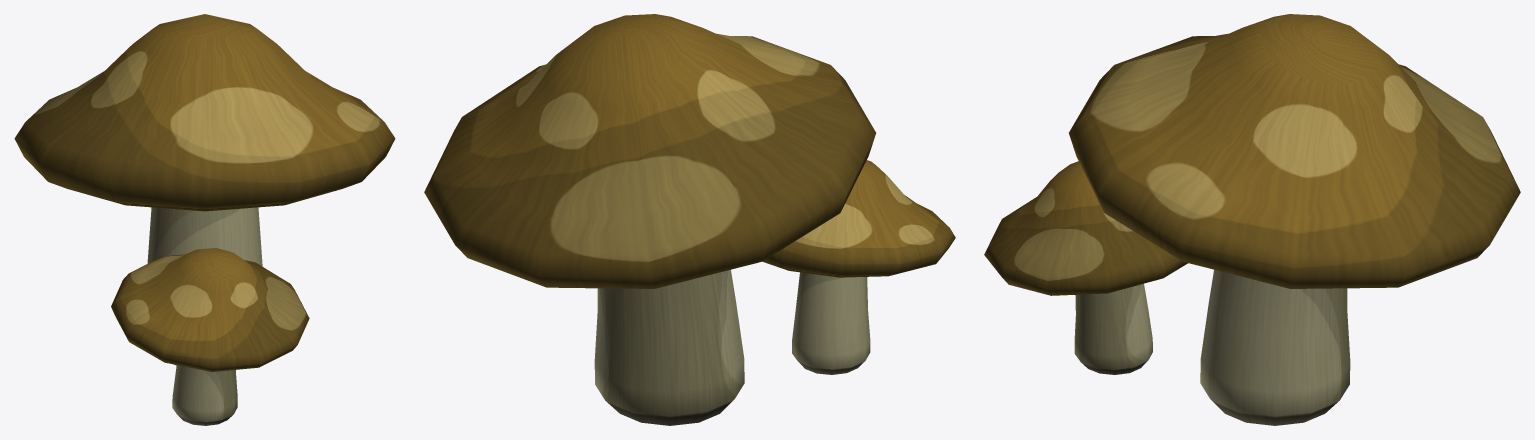
Rendered from Mushroom_Mesh_2.FBX.
The picture shows the model from 3 angles, left to right: view 1: azimuth 30°, elevation 25°; view 2: azimuth 150°, elevation 25°; view 3: azimuth 270°, elevation 25°; orthographic projection. The views are drawn at different scales.
Parts seen in each view (by area): view 1: Mushroom_2; view 2: Mushroom_2; view 3: Mushroom_2.
Part boxes in pixels (<box>): Mushroom_2: <box>14,14,395,425</box>; Mushroom_2: <box>424,14,955,425</box>; Mushroom_2: <box>984,14,1520,425</box>.
Bounding box in the file's own units: 142 × 133 × 168.
Materials: 1 (1 with a texture image).
